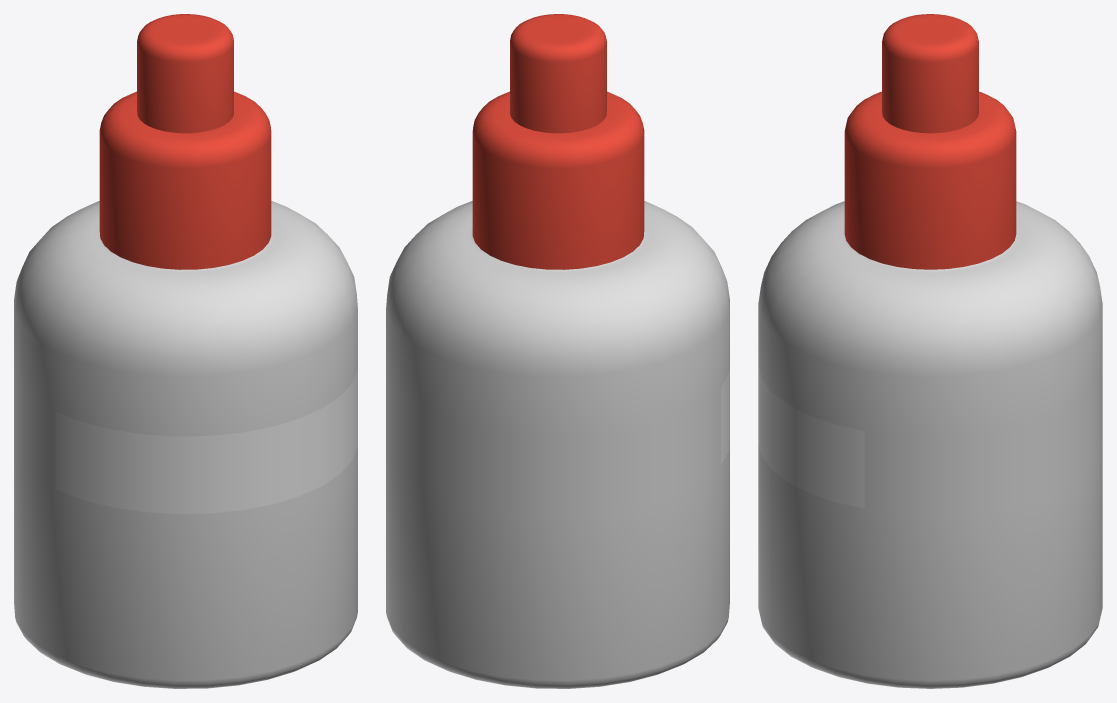
Rendered from Metil.fbx.
3 views of the same model, side by side, from view 1: azimuth 30°, elevation 25°; view 2: azimuth 150°, elevation 25°; view 3: azimuth 270°, elevation 25° (orthographic).
Parts seen in each view (by area): view 1: Export Metil; view 2: Export Metil; view 3: Export Metil.
Boxes of the visible parts, x1,y1,x2,y2 form: Export Metil: (14,14,357,688); Export Metil: (386,14,729,688); Export Metil: (758,14,1102,688).
Size of the model in its own units: 8.45 by 16 by 8.45.
